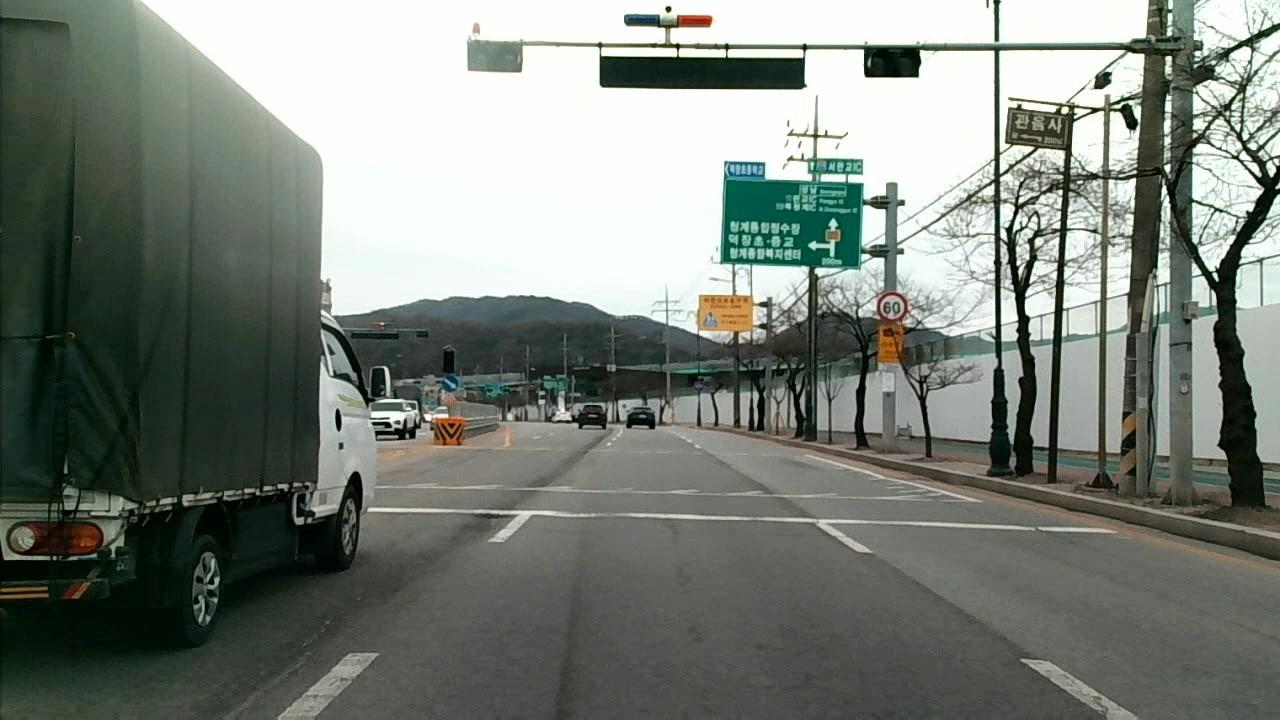vcrack: (866, 549, 1016, 651)
